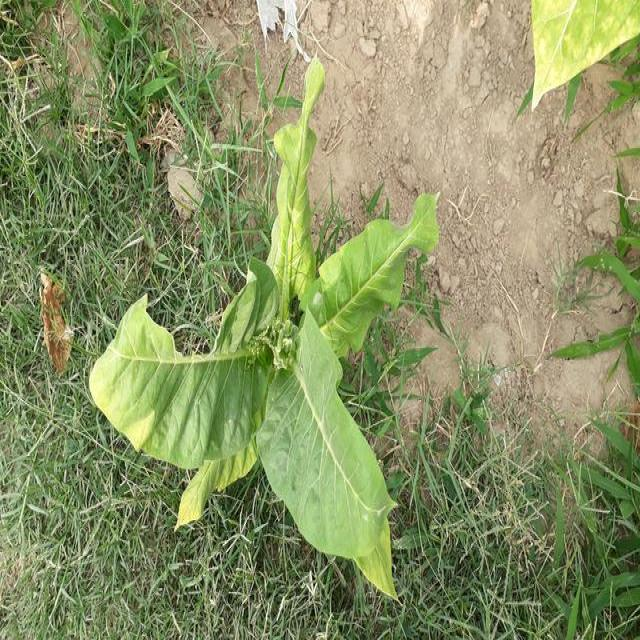crop: (86, 95, 426, 591)
